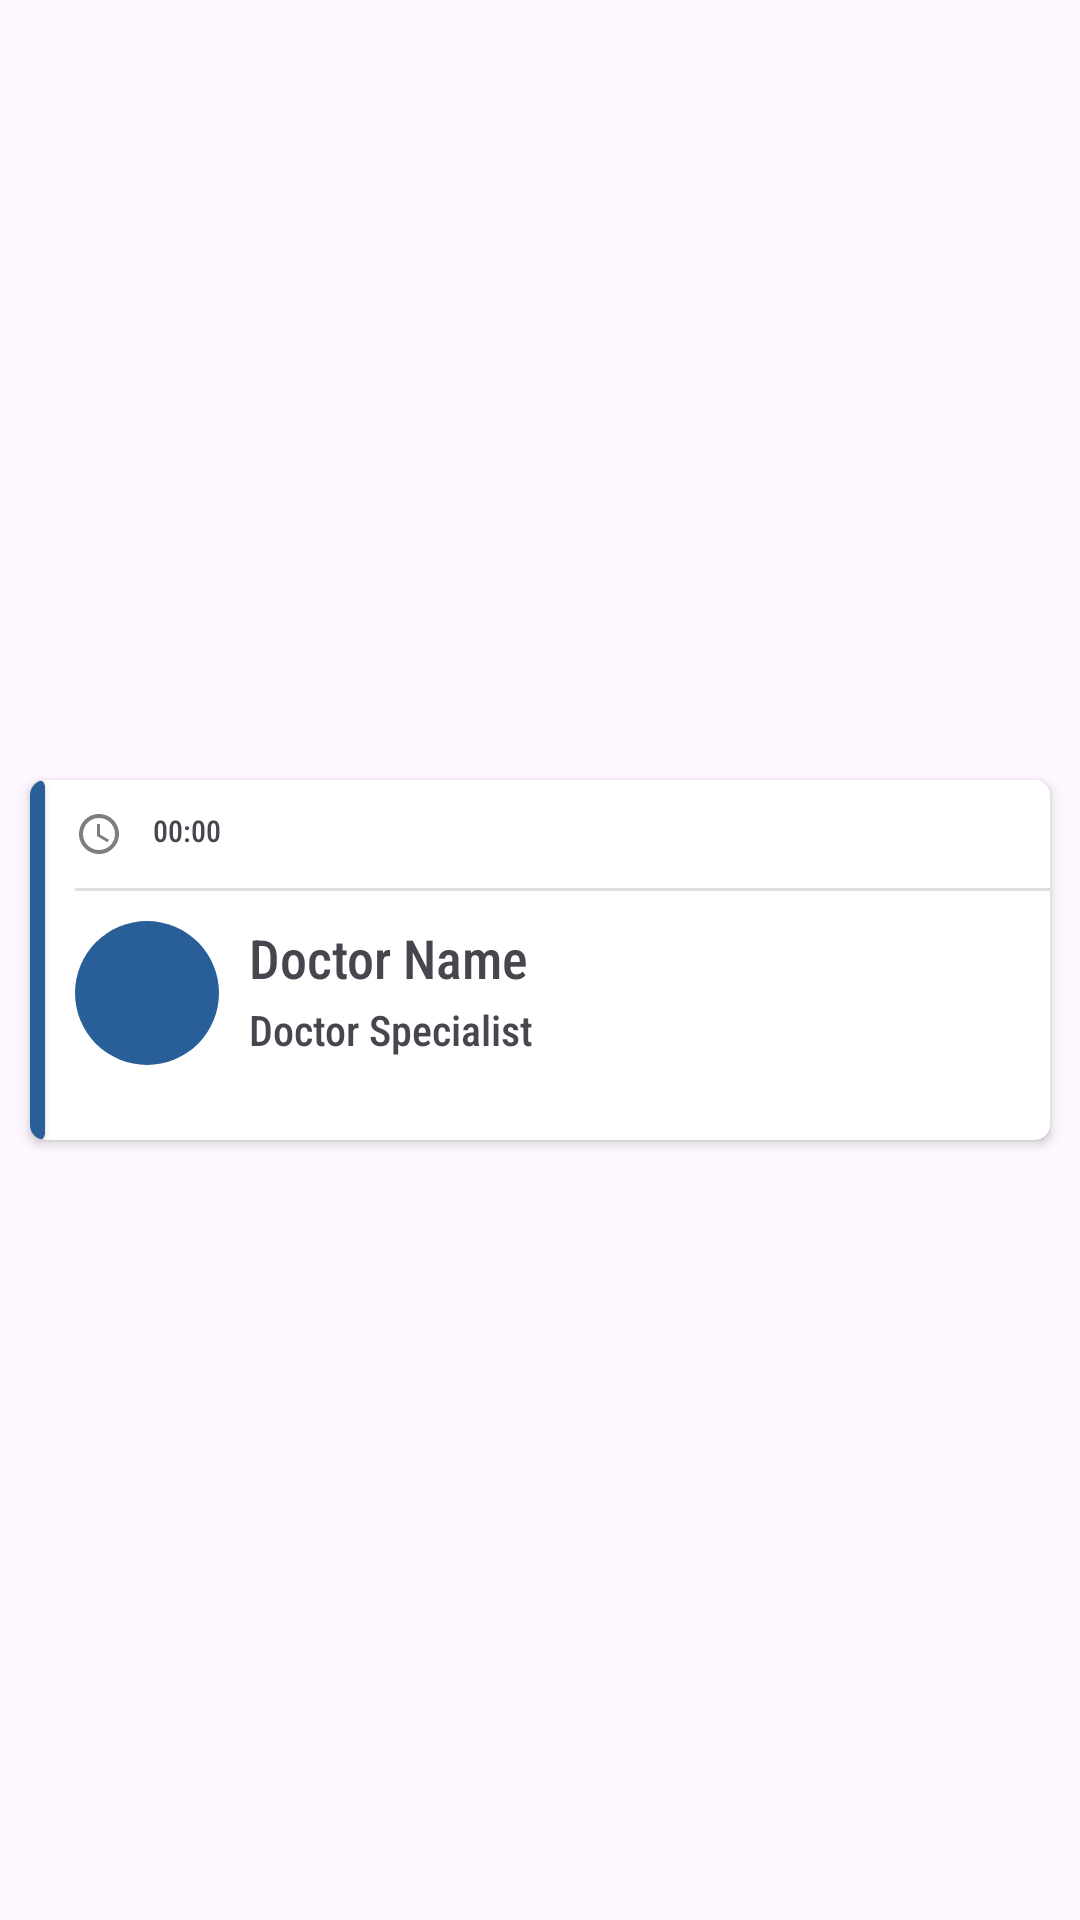

Icons on this 1080px×1920px Android screen, each with its box as box=[x1, y1, x2, y2]:
access time: box=[79, 814, 119, 854]
